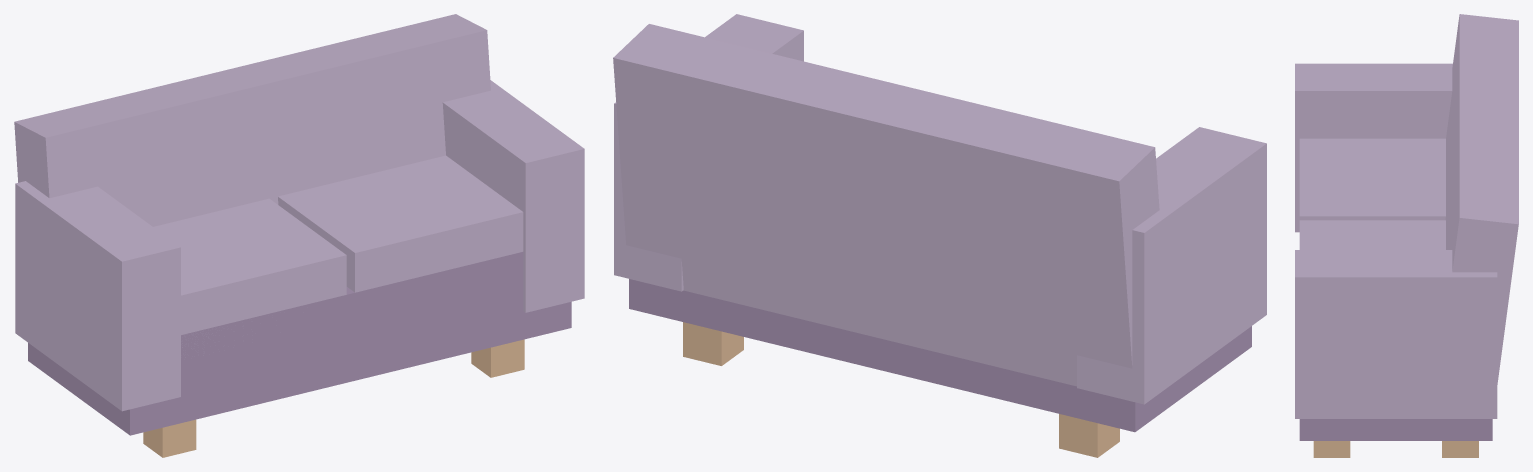
The model's file is home-starter-sofa-pixel-8bit-3d.glb.
The picture shows the model from 3 angles, left to right: view 1: azimuth 30°, elevation 25°; view 2: azimuth 150°, elevation 25°; view 3: azimuth 270°, elevation 25°; orthographic projection. The views are drawn at different scales.
Parts seen in each view (by area): view 1: back, frame-base, arm-left, seat-right, arm-right, seat-left, leg-a, leg-b; view 2: back, arm-left, frame-base, arm-right, leg-c, leg-d; view 3: arm-right, back, arm-left, seat-left, seat-right, frame-base, leg-b, leg-d.
Part boxes in pixels (<box>): back: <box>14,14,490,226</box>; frame-base: <box>28,252,571,435</box>; arm-left: <box>15,181,180,411</box>; seat-right: <box>278,155,523,292</box>; arm-right: <box>442,80,584,312</box>; seat-left: <box>153,198,346,357</box>; leg-a: <box>143,419,196,457</box>; leg-b: <box>471,339,524,377</box>; back: <box>613,24,1159,386</box>; arm-left: <box>1077,127,1266,404</box>; frame-base: <box>629,279,1251,432</box>; arm-right: <box>614,14,803,291</box>; leg-c: <box>1059,414,1119,457</box>; leg-d: <box>683,322,743,365</box>; arm-right: <box>1295,250,1497,418</box>; back: <box>1445,14,1518,384</box>; arm-left: <box>1295,63,1452,232</box>; seat-left: <box>1299,138,1445,220</box>; seat-right: <box>1299,220,1445,249</box>; frame-base: <box>1299,419,1492,440</box>; leg-b: <box>1313,441,1350,457</box>; leg-d: <box>1442,441,1478,457</box>.
Size of the model in its own units: 2.2 by 1.24 by 0.9741.
